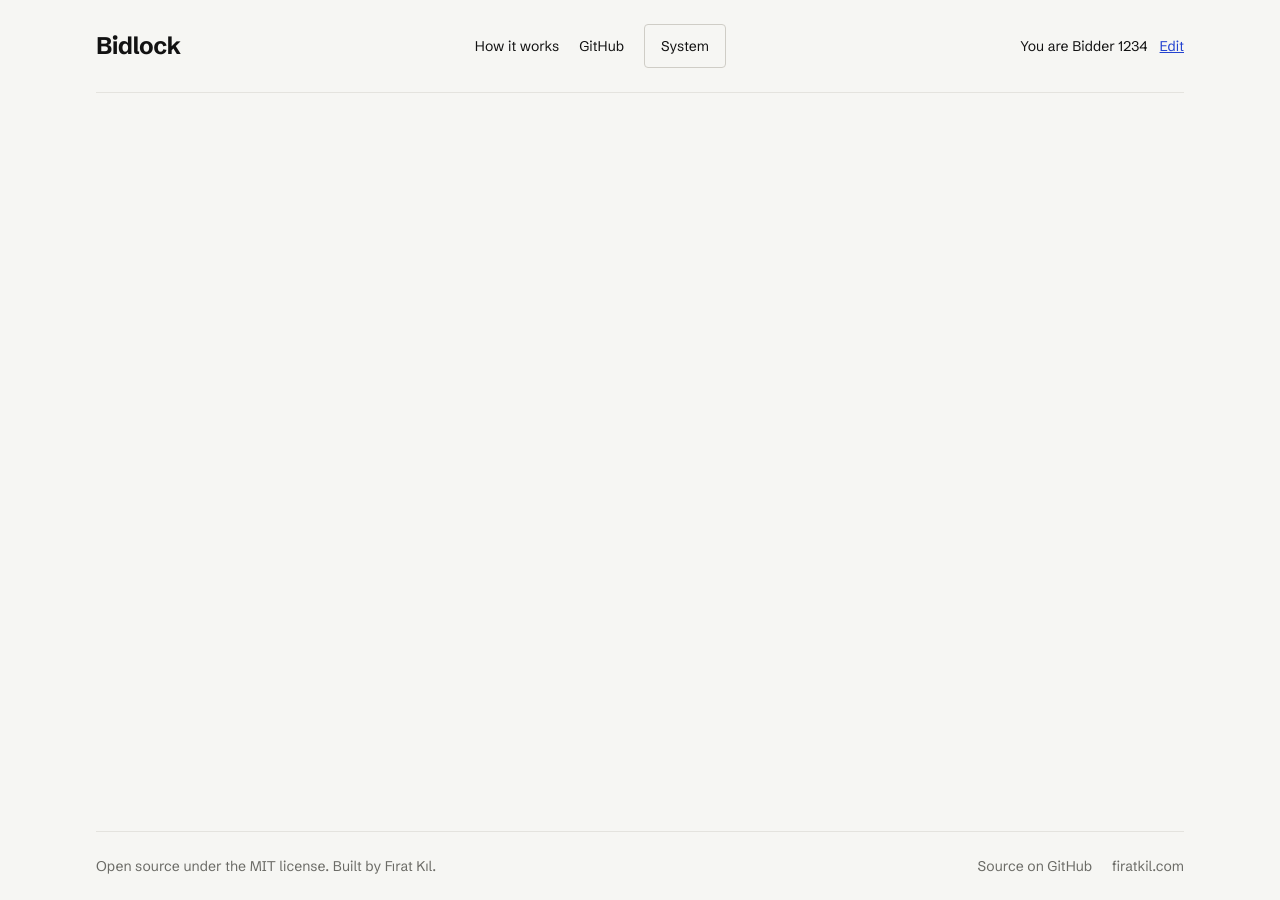
Test case: TC-171: failed save keeps dialog and exact error, Cancel returns focus
Click the button "Edit" at coordinates (1172, 46), box x1=1160 y1=36 x2=1184 y2=56
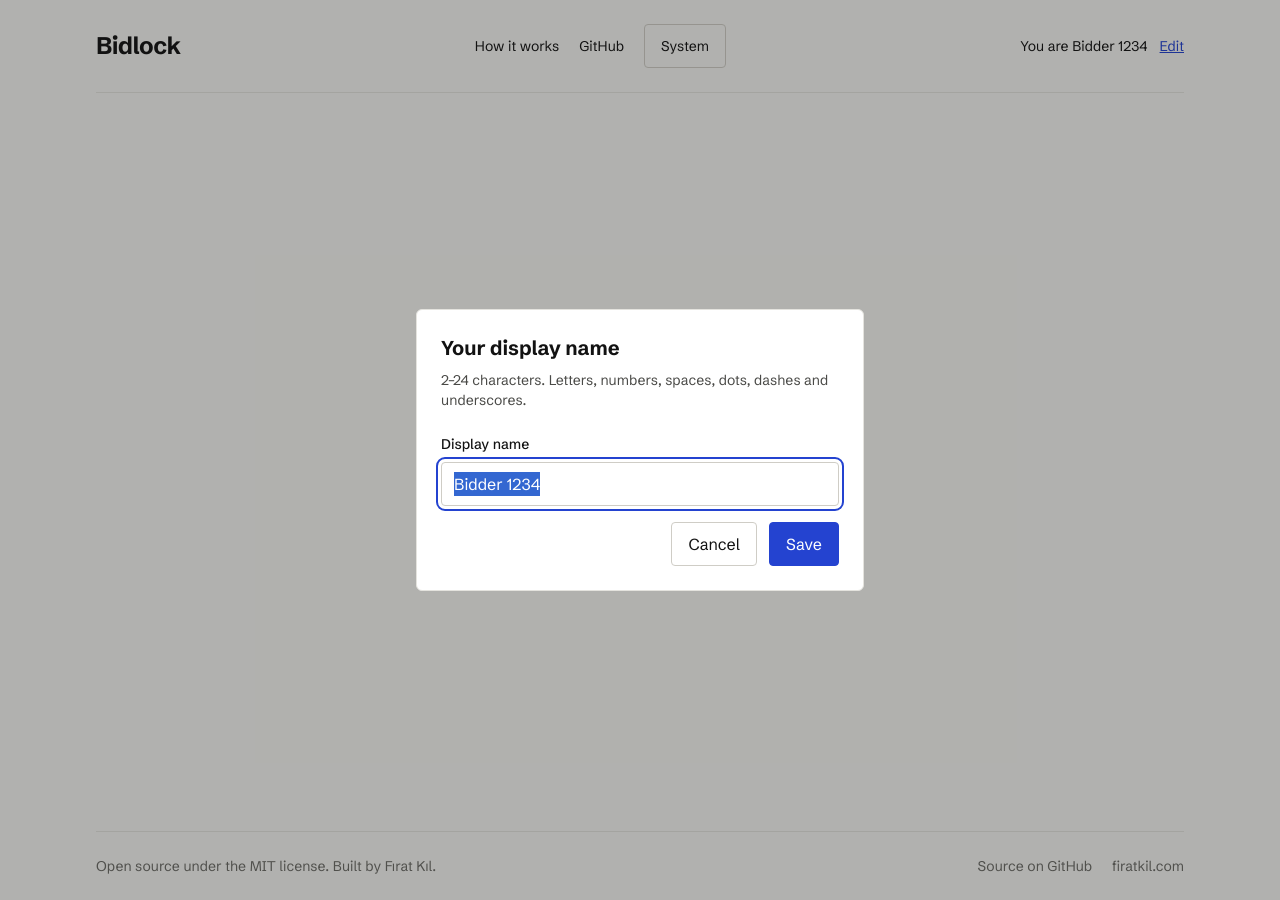
Expected: the dialog "Your display name" is shown, x1=416 y1=309 x2=864 y2=591
Click the button "Save" at coordinates (804, 544), box x1=769 y1=522 x2=839 y2=566
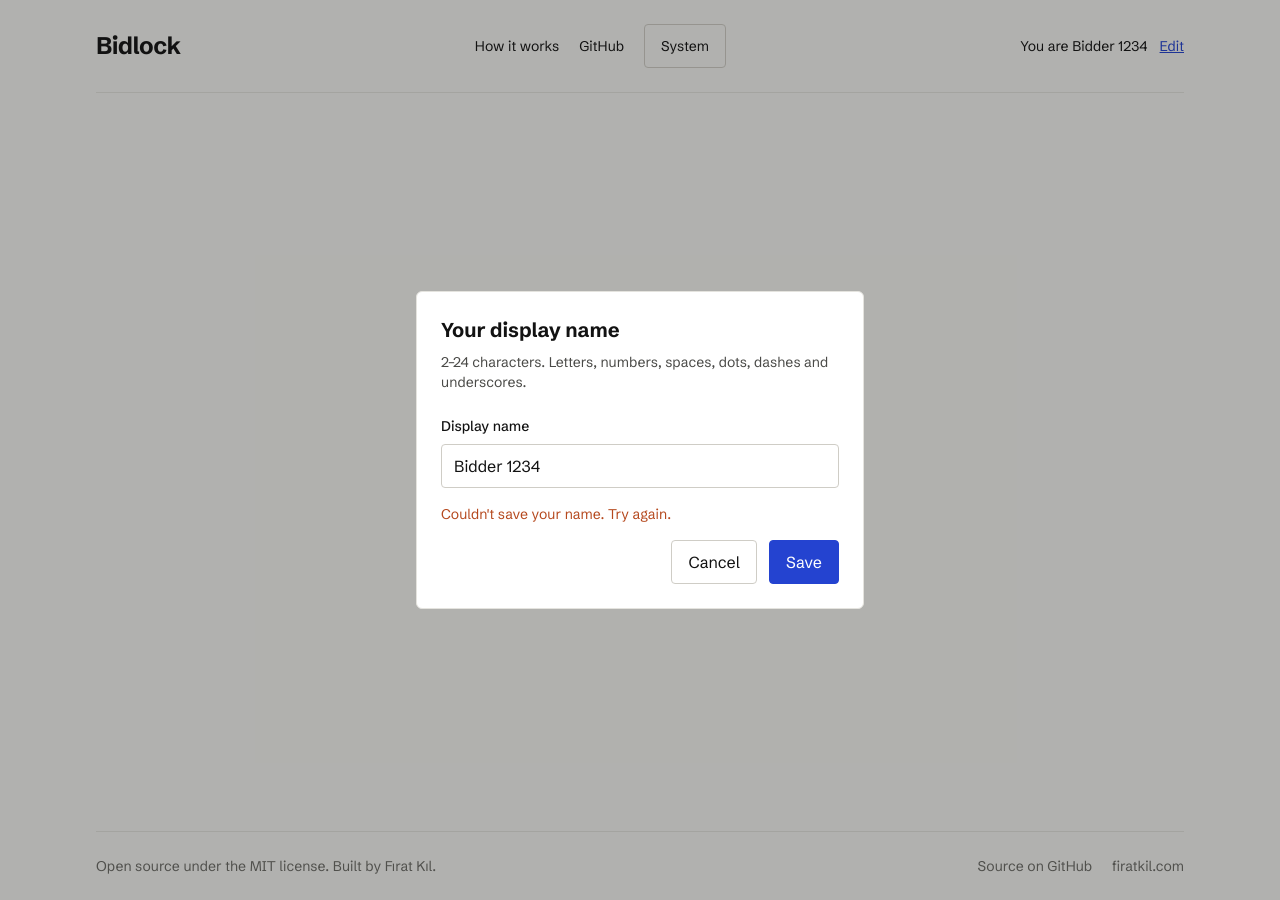
Expected: the message reads "Couldn't save your name. Try again.", x1=441 y1=505 x2=671 y2=523
Click the button "Cancel" at coordinates (714, 562), box x1=671 y1=540 x2=757 y2=584
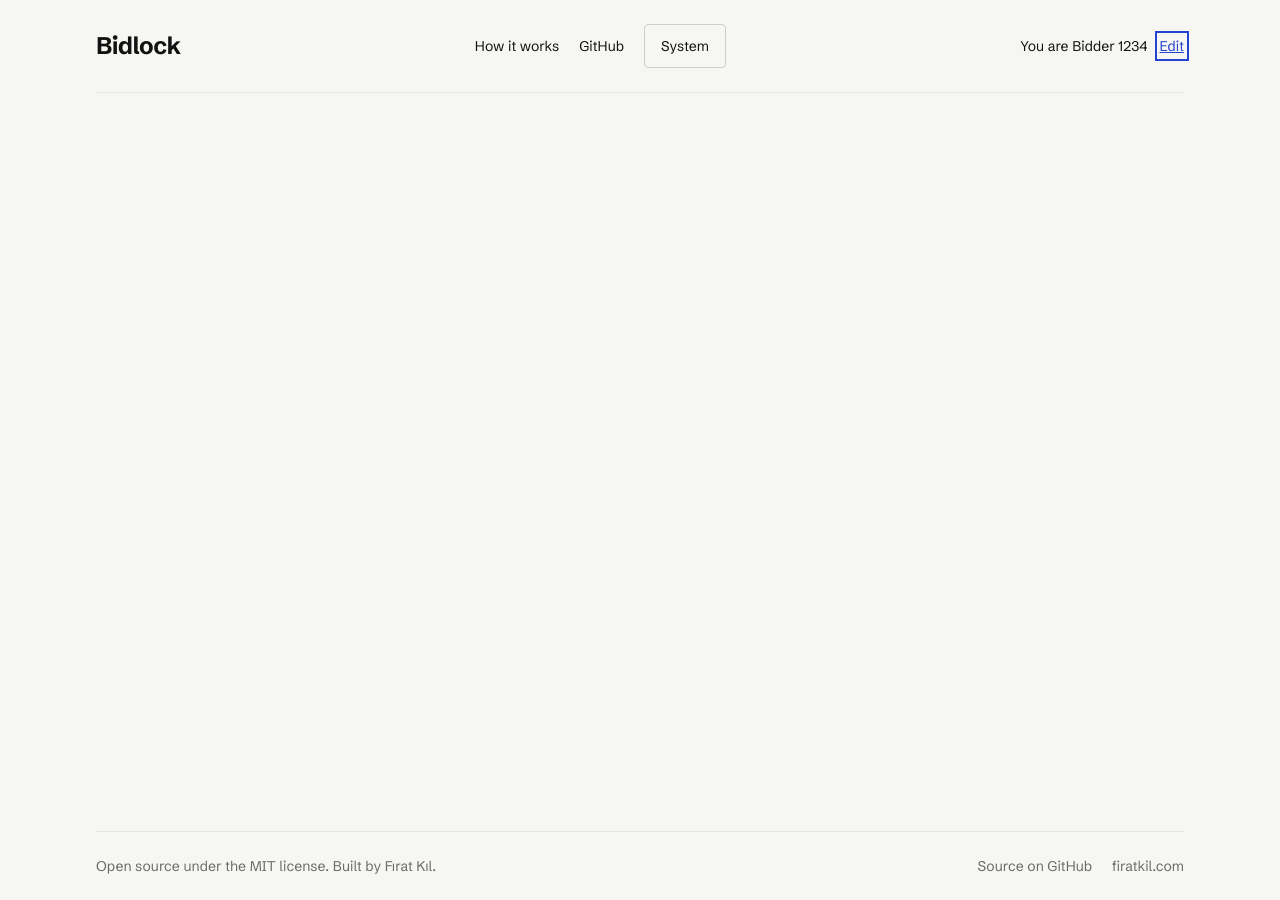
Expected: the dialog is gone
